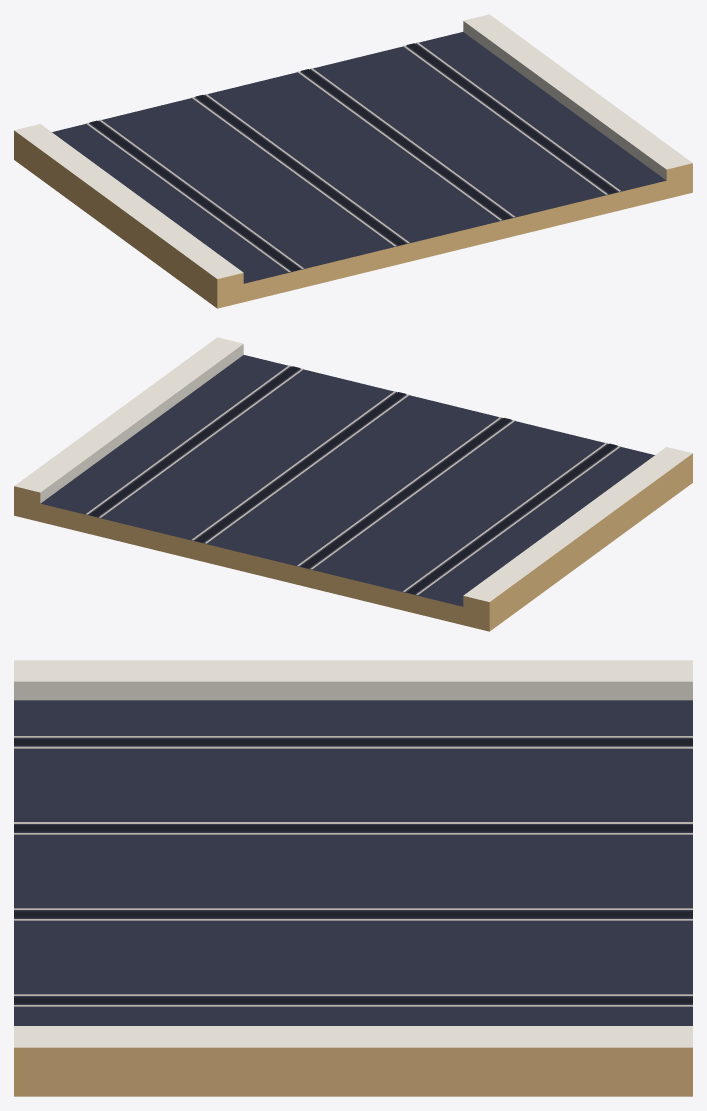
Rendered from Track_4L_Straight4.fbx.
The picture shows the model from 3 angles, top to bottom: view 1: azimuth 30°, elevation 25°; view 2: azimuth 150°, elevation 25°; view 3: azimuth 270°, elevation 25°; orthographic projection. The views are drawn at different scales.
Visible parts, largest first — view 1: Track_4L_Straight4; view 2: Track_4L_Straight4; view 3: Track_4L_Straight4.
Boxes of the visible parts, box(x1,y1,x2,y2) form: Track_4L_Straight4: box(14, 14, 692, 308); Track_4L_Straight4: box(14, 337, 692, 631); Track_4L_Straight4: box(14, 660, 692, 1096).
Bounding box in the file's own units: 5.4 × 0.32 × 4.
